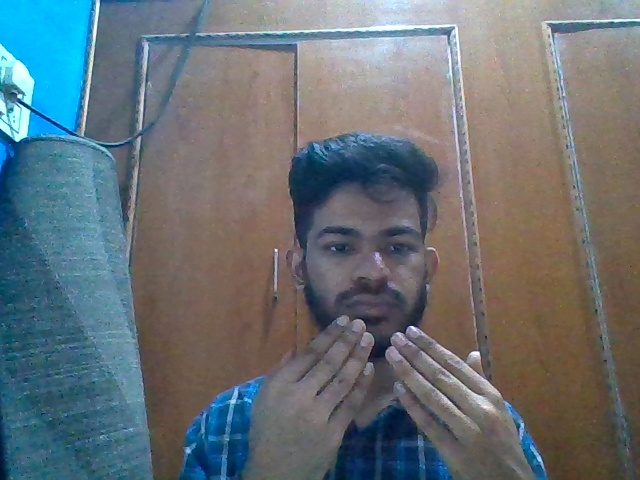thanks: (243, 309, 536, 480)
